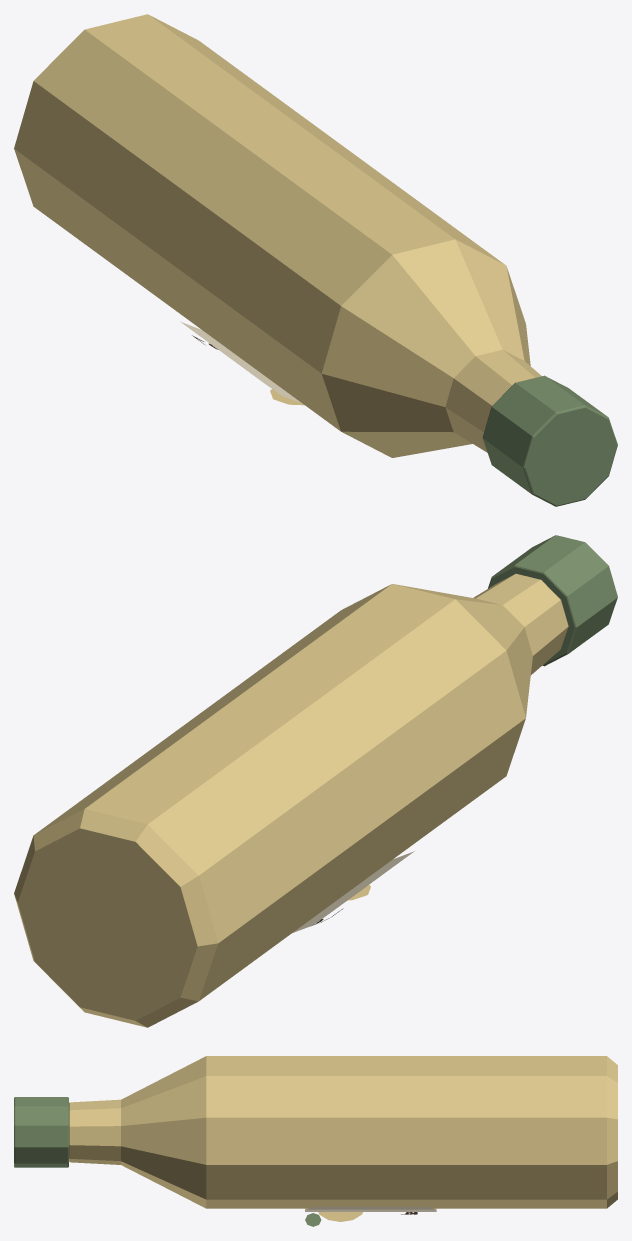
File: lemonade.glb
The picture shows the model from 3 angles, top to bottom: view 1: azimuth 30°, elevation 25°; view 2: azimuth 150°, elevation 25°; view 3: azimuth 270°, elevation 25°; orthographic projection. The views are drawn at different scales.
Parts seen in each view (by area): view 1: lemonade; view 2: lemonade; view 3: lemonade.
Boxes of the visible parts, box(x1,y1,x2,y2) form: lemonade: box(14, 14, 617, 506); lemonade: box(14, 535, 617, 1027); lemonade: box(14, 1056, 617, 1226).
Bounding box in the file's own units: 0.056 × 0.0576 × 0.22.
